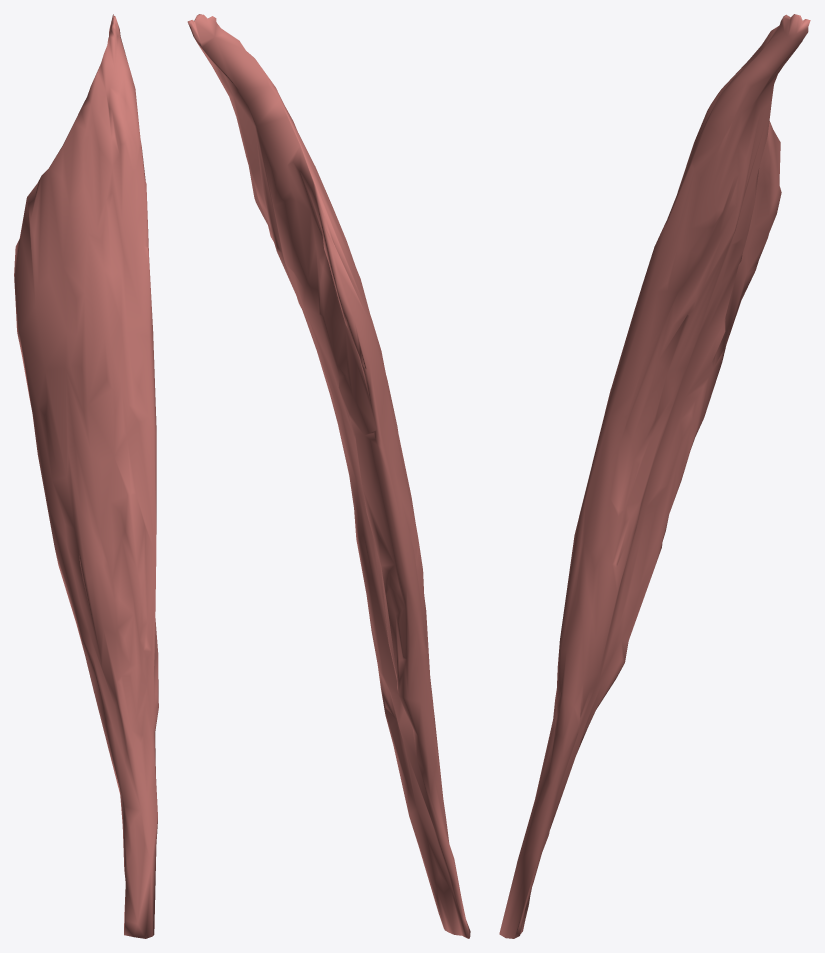
The picture shows the model from 3 angles, left to right: view 1: azimuth 30°, elevation 25°; view 2: azimuth 150°, elevation 25°; view 3: azimuth 270°, elevation 25°; orthographic projection. The views are drawn at different scales.
Visible parts, largest first — view 1: ZA_3a4df4fff34796f5; view 2: ZA_3a4df4fff34796f5; view 3: ZA_3a4df4fff34796f5.
Part boxes in pixels (<box>): ZA_3a4df4fff34796f5: <box>14,14,158,938</box>; ZA_3a4df4fff34796f5: <box>187,14,470,938</box>; ZA_3a4df4fff34796f5: <box>499,14,810,938</box>.
Size of the model in its own units: 0.0291 by 0.1849 by 0.0537.
